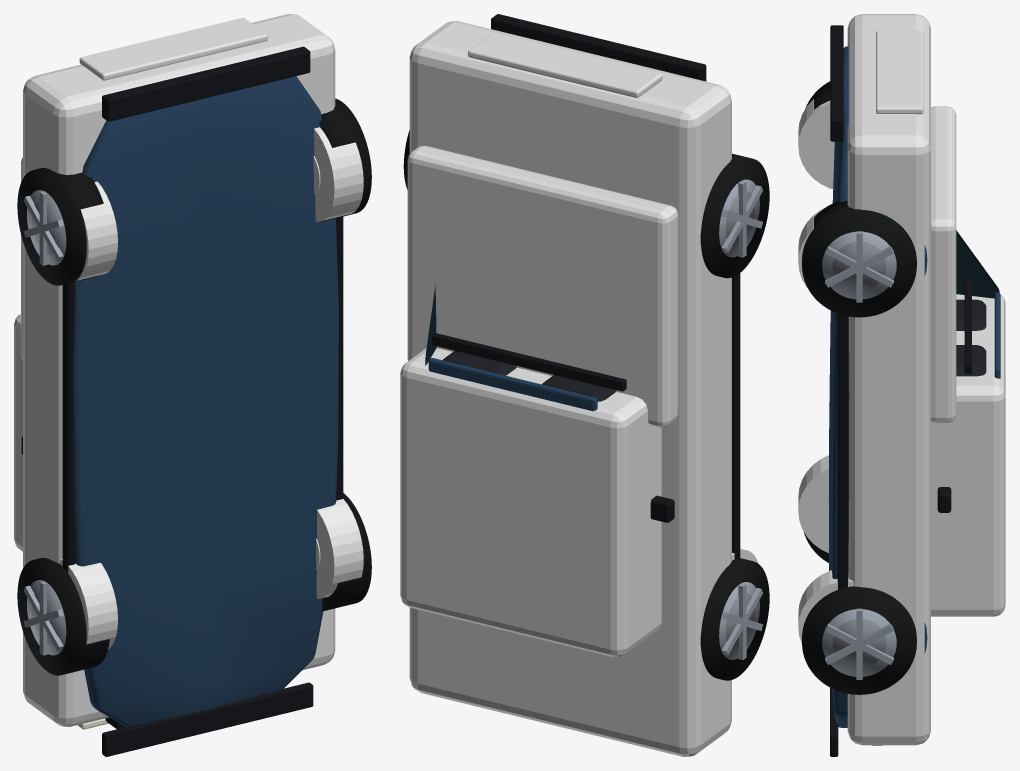
The model's file is MarshNsx.fbx.
3 views of the same model, side by side, from view 1: azimuth 30°, elevation 25°; view 2: azimuth 150°, elevation 25°; view 3: azimuth 270°, elevation 25° (orthographic). The views are drawn at different scales.
Visible parts, largest first — view 1: Marsh_BODY_SHELL, marsh_nsx91_Body, Marsh_REAR_DIFFUSER, Marsh_FRONT_SPLITTER, marsh_nsx91_Grille, Marsh_TIRE.001, Marsh_TIRE, marsh_nsx91_Wheel.002, marsh_nsx91_Wheel.003, Marsh_SIDE_SILL, marsh_nsx91_Wheel, marsh_nsx91_Wheel.001 (+6 smaller); view 2: marsh_nsx91_Body, marsh_nsx91_Cabin, marsh_nsx91_Hood, marsh_nsx91_Grille, Marsh_TIRE.001, Marsh_TIRE, Marsh_REAR_DIFFUSER, Marsh_B_PILLAR, Marsh_SIDE_SILL, Marsh_ROOF_PANEL, Marsh_SEAT_BACK, Marsh_RIM.001 (+2 smaller); view 3: marsh_nsx91_Body, marsh_nsx91_Cabin, marsh_nsx91_Hood, Marsh_TIRE.003, Marsh_TIRE.002, Marsh_BODY_SHELL, marsh_nsx91_Grille, Marsh_SIDE_SILL.001, marsh_nsx91_Wheel.001, marsh_nsx91_Wheel, Marsh_REAR_DIFFUSER, Marsh_RIM.002 (+12 smaller).
Part boxes in pixels (bbox=[...]): Marsh_BODY_SHELL: bbox=[73, 76, 338, 726]; marsh_nsx91_Body: bbox=[23, 14, 335, 726]; Marsh_REAR_DIFFUSER: bbox=[102, 46, 310, 121]; Marsh_FRONT_SPLITTER: bbox=[102, 682, 313, 756]; marsh_nsx91_Grille: bbox=[79, 17, 267, 80]; Marsh_TIRE.001: bbox=[17, 168, 103, 285]; Marsh_TIRE: bbox=[17, 558, 109, 675]; marsh_nsx91_Wheel.002: bbox=[316, 499, 363, 599]; marsh_nsx91_Wheel.003: bbox=[314, 127, 363, 221]; Marsh_SIDE_SILL: bbox=[62, 282, 74, 572]; marsh_nsx91_Wheel: bbox=[60, 559, 117, 649]; marsh_nsx91_Wheel.001: bbox=[75, 181, 117, 281]; marsh_nsx91_Body: bbox=[409, 21, 731, 756]; marsh_nsx91_Cabin: bbox=[400, 348, 661, 657]; marsh_nsx91_Hood: bbox=[407, 145, 678, 427]; marsh_nsx91_Grille: bbox=[468, 33, 662, 98]; Marsh_TIRE.001: bbox=[700, 153, 769, 278]; Marsh_TIRE: bbox=[700, 558, 769, 680]; Marsh_REAR_DIFFUSER: bbox=[491, 14, 706, 81]; Marsh_B_PILLAR: bbox=[432, 332, 626, 391]; Marsh_SIDE_SILL: bbox=[732, 273, 740, 559]; Marsh_ROOF_PANEL: bbox=[428, 358, 597, 411]; Marsh_SEAT_BACK: bbox=[542, 375, 616, 401]; Marsh_RIM.001: bbox=[719, 179, 759, 257]; marsh_nsx91_Body: bbox=[847, 14, 930, 745]; marsh_nsx91_Cabin: bbox=[931, 293, 1005, 616]; marsh_nsx91_Hood: bbox=[931, 106, 956, 422]; Marsh_TIRE.003: bbox=[802, 200, 916, 317]; Marsh_TIRE.002: bbox=[802, 586, 916, 694]; Marsh_BODY_SHELL: bbox=[829, 46, 849, 727]; marsh_nsx91_Grille: bbox=[876, 30, 923, 114]; Marsh_SIDE_SILL.001: bbox=[837, 313, 848, 589]; marsh_nsx91_Wheel.001: bbox=[798, 99, 833, 189]; marsh_nsx91_Wheel: bbox=[798, 455, 828, 552]; Marsh_REAR_DIFFUSER: bbox=[830, 25, 843, 141]; Marsh_RIM.002: bbox=[822, 609, 896, 676].
Size of the model in its own units: 229 by 472 by 139.
